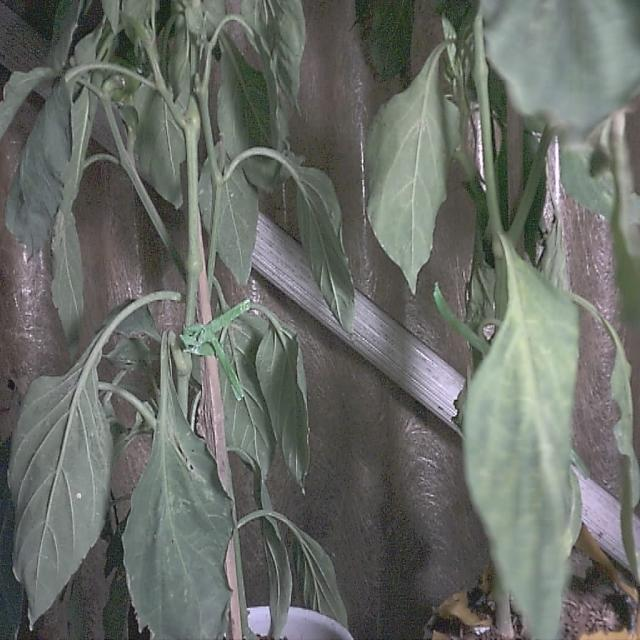Leaf: (5, 366, 112, 630), (119, 411, 234, 640), (363, 65, 450, 295), (294, 168, 358, 340), (256, 314, 310, 498)
